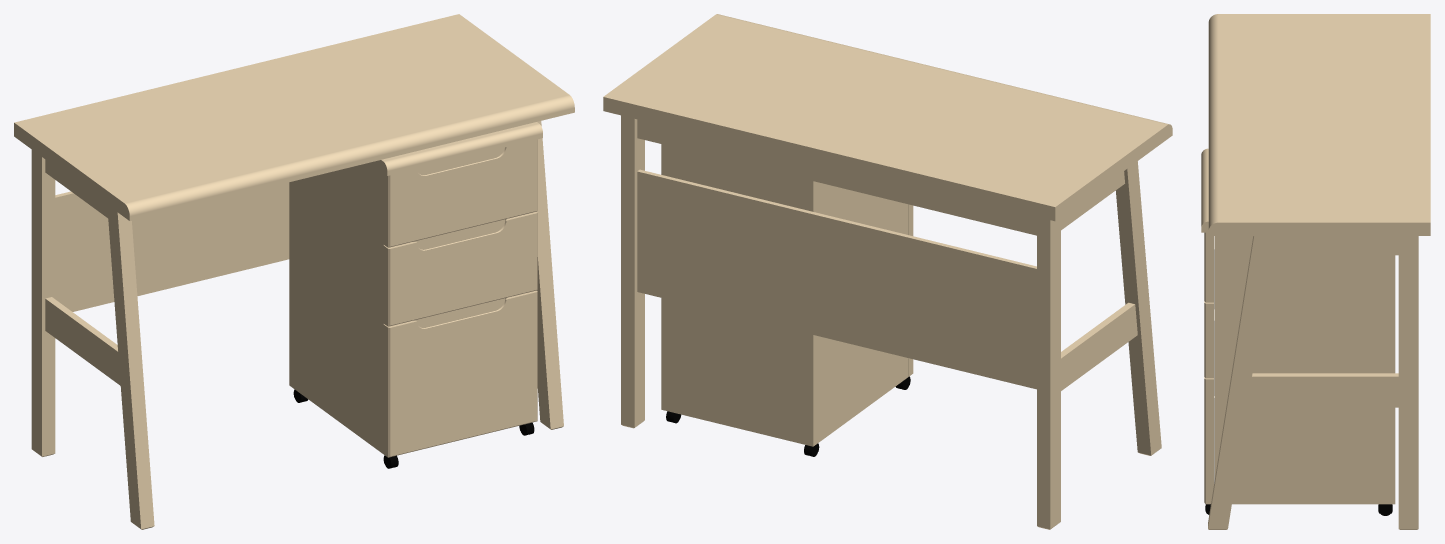
The model's file is 350_ワゴン付きデスク.glb.
3 renders of one model, left to right at view 1: azimuth 30°, elevation 25°; view 2: azimuth 150°, elevation 25°; view 3: azimuth 270°, elevation 25°, orthographic. The views are drawn at different scales.
Visible parts, largest first — view 1: Body, ワゴン, 引き出し下, 引き出し中, 引き出し上; view 2: Body, ワゴン; view 3: Body, ワゴン, 引き出し下, 引き出し中, 引き出し上.
Part boxes in pixels (bbox=[...]): Body: bbox=[14, 14, 574, 529]; ワゴン: bbox=[289, 122, 542, 468]; 引き出し下: bbox=[383, 290, 537, 457]; 引き出し中: bbox=[383, 211, 537, 326]; 引き出し上: bbox=[383, 139, 537, 247]; Body: bbox=[603, 14, 1172, 529]; ワゴン: bbox=[661, 144, 910, 456]; Body: bbox=[1208, 14, 1430, 529]; ワゴン: bbox=[1201, 148, 1395, 515]; 引き出し下: bbox=[1204, 375, 1214, 504]; 引き出し中: bbox=[1204, 299, 1214, 378]; 引き出し上: bbox=[1204, 232, 1214, 302].
Size of the model in its own units: 1 by 0.7001 by 0.465.
